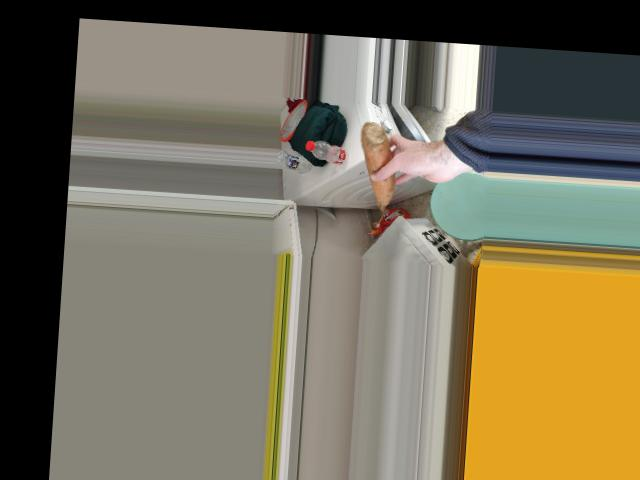sweet_potato: (361, 122, 393, 214)
